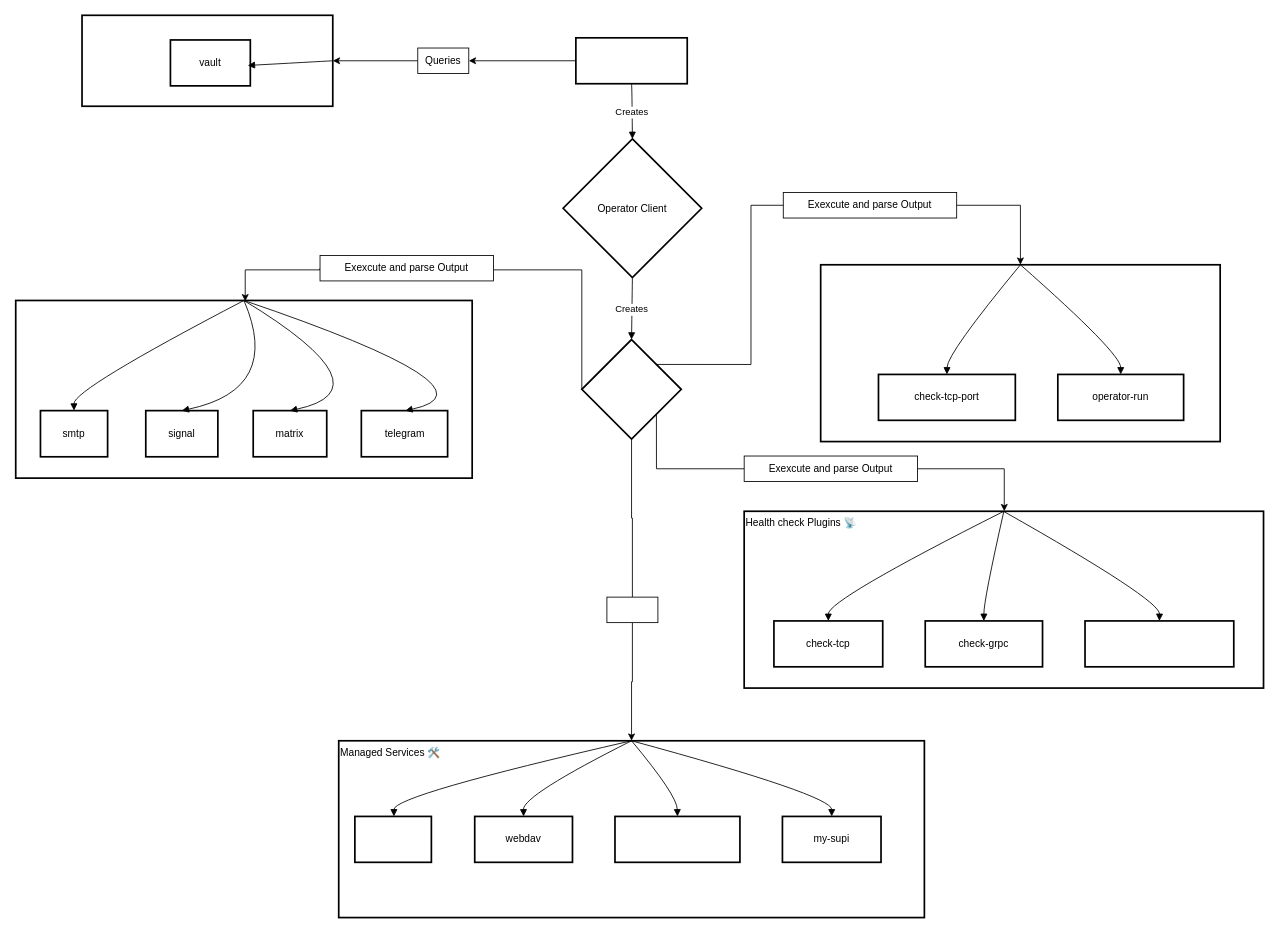
Image size: 1278x933. Some labels were removed from this diagram. The box of each missing label's shape, as (x1, y1, x2, y2) in pixels:
auth-service: (614, 815, 740, 863)
check-server-url: (1084, 620, 1234, 667)
Exexcute: (606, 596, 658, 623)
nats: (354, 815, 432, 863)
Notification Plugins 📢: (14, 299, 473, 479)
octoctl 🐙: (575, 37, 688, 84)
Operator: (581, 338, 682, 439)
Preflight check Plugins ⚙️: (819, 264, 1221, 442)
Secret Manager Plugins 🔒: (81, 14, 333, 107)
